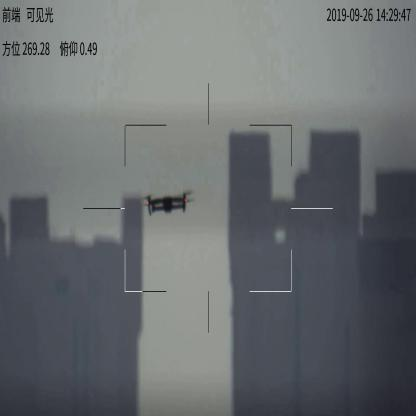uav: (141, 188, 193, 218)
